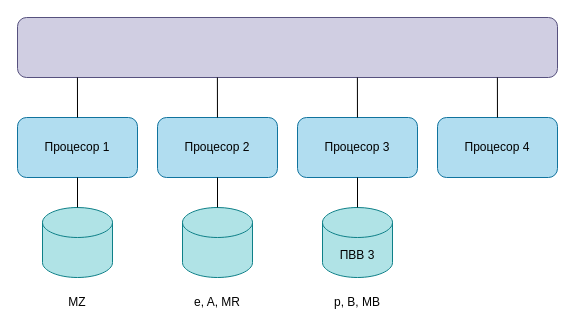
This 575x335 diagram has some shape labels left out. Each missing label, with the centre of its shape:
ПВВ 1: (77,242)
ПВВ 2: (217,242)
Спільна пам'ять: (287,47)
